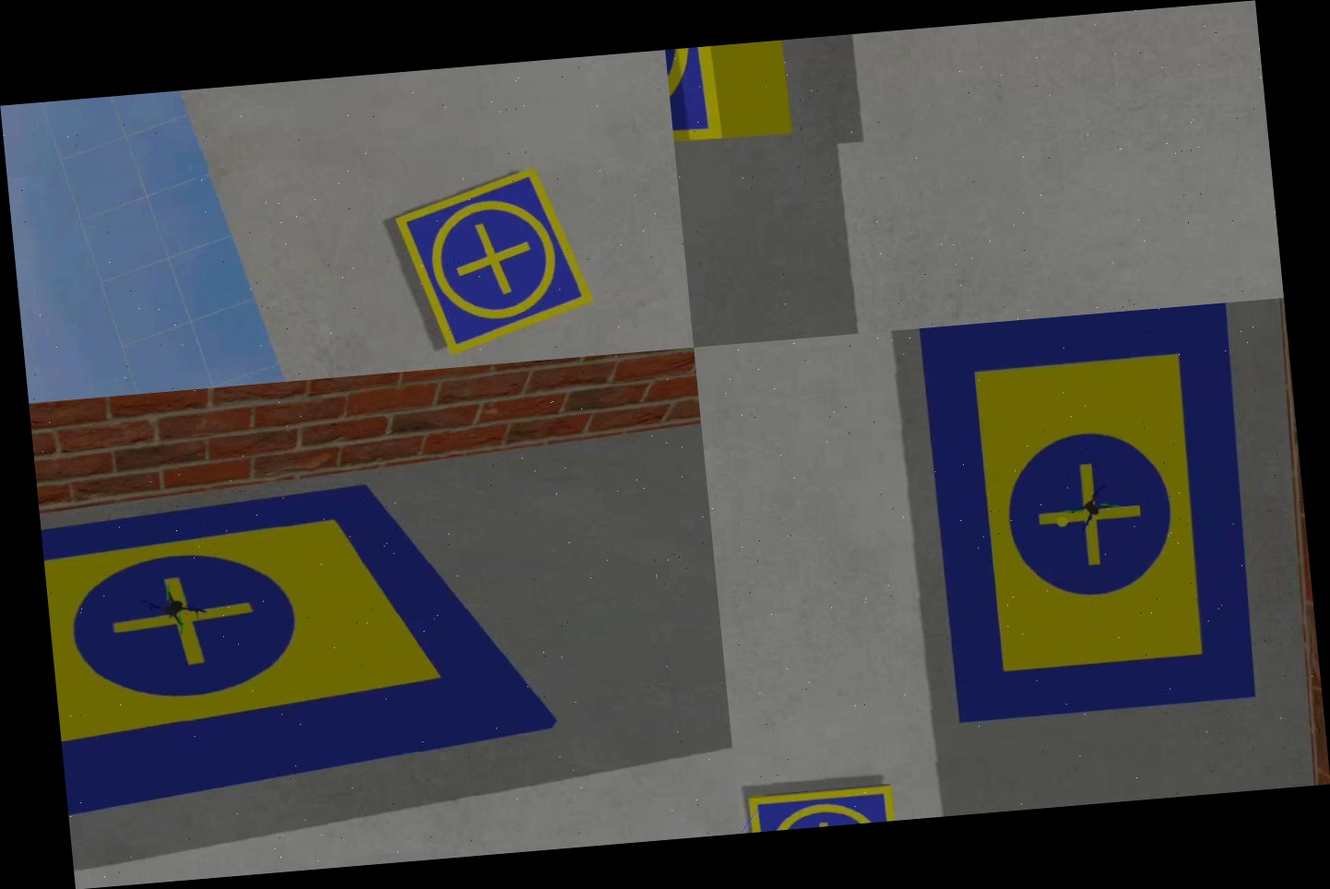large_base: (39, 458, 575, 838), (910, 302, 1263, 728)
small_base: (386, 158, 600, 361), (743, 782, 899, 832)
